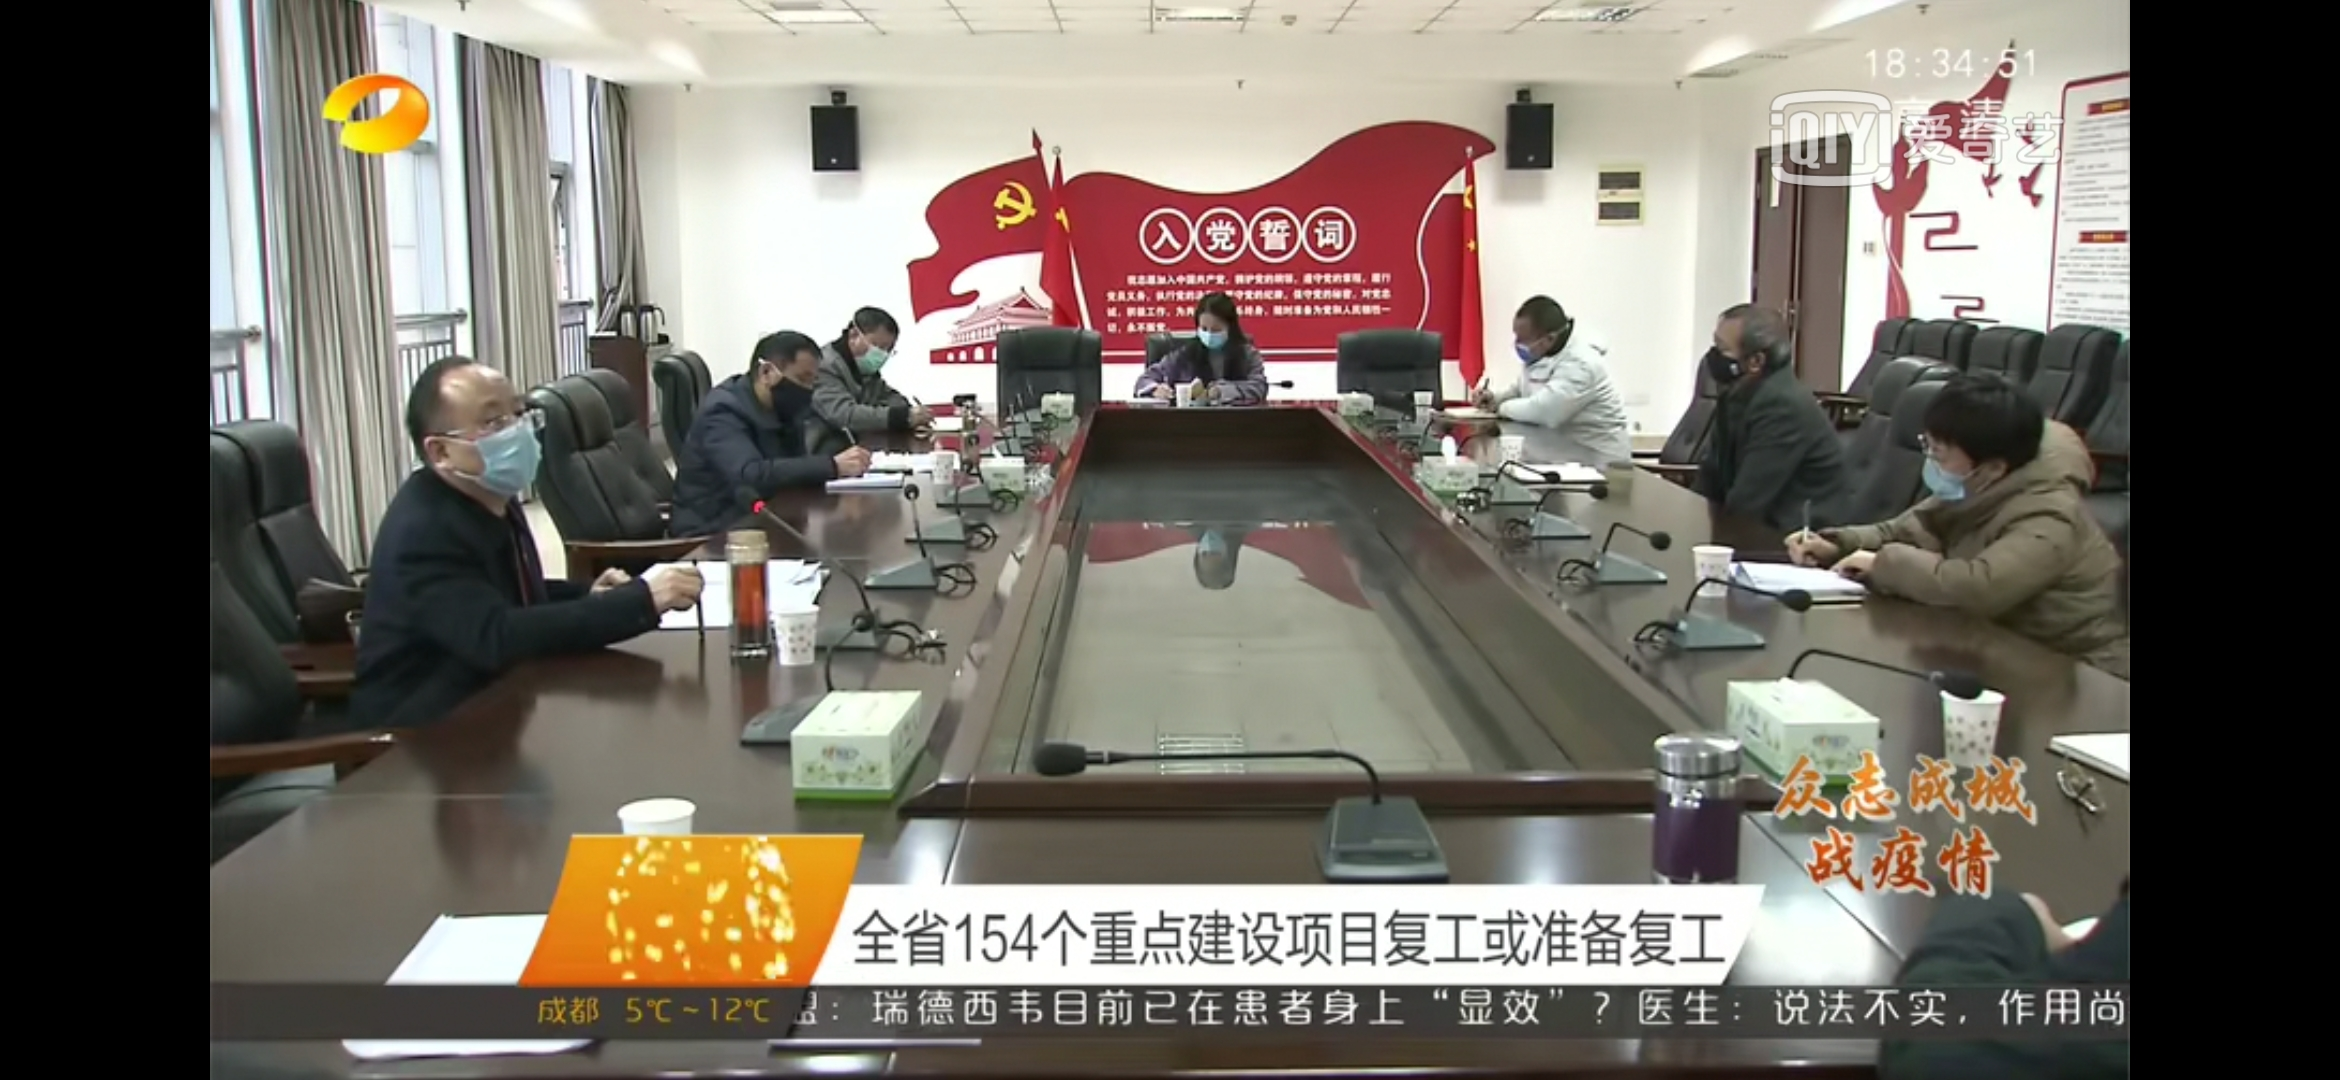correctlyWear: (422, 389, 551, 503), (1910, 401, 2012, 503), (751, 348, 822, 421), (1700, 322, 1771, 391), (843, 318, 900, 380), (1510, 313, 1565, 368), (1188, 303, 1245, 352)
